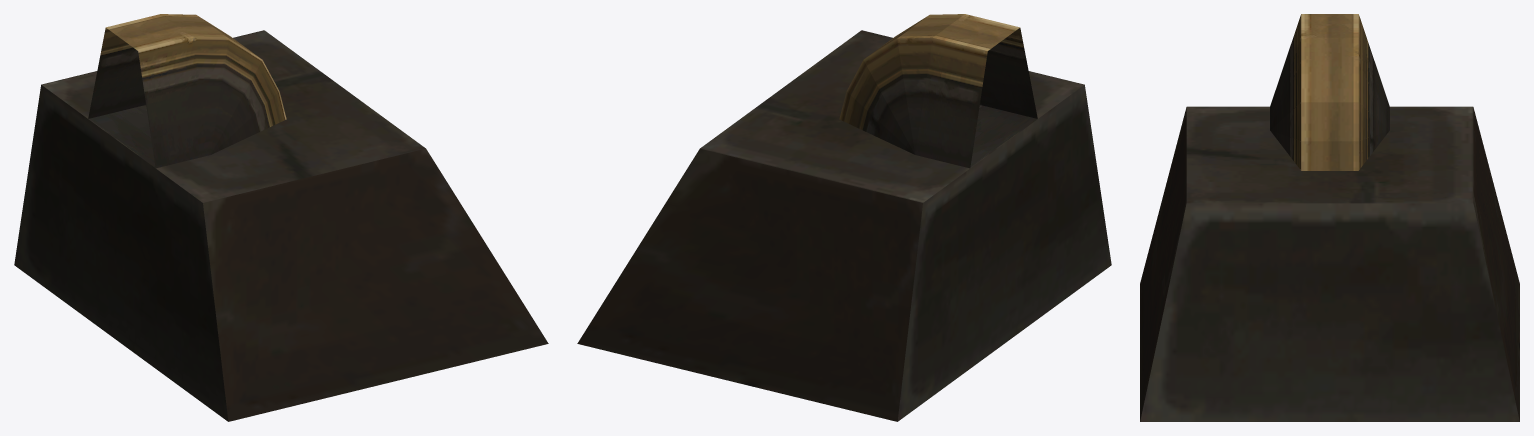
File: fortress_rail_end_01.fbx
3 views of the same model, side by side, from view 1: azimuth 30°, elevation 25°; view 2: azimuth 150°, elevation 25°; view 3: azimuth 270°, elevation 25° (orthographic). The views are drawn at different scales.
Parts seen in each view (by area): view 1: fortress_rail_end_01-0; view 2: fortress_rail_end_01-0; view 3: fortress_rail_end_01-0.
Part boxes in pixels (x1,y1,x2,y2): fortress_rail_end_01-0: (14,14,548,421); fortress_rail_end_01-0: (577,14,1111,421); fortress_rail_end_01-0: (1140,14,1519,421).
Size of the model in its own units: 1.42 by 1.29 by 1.64.
